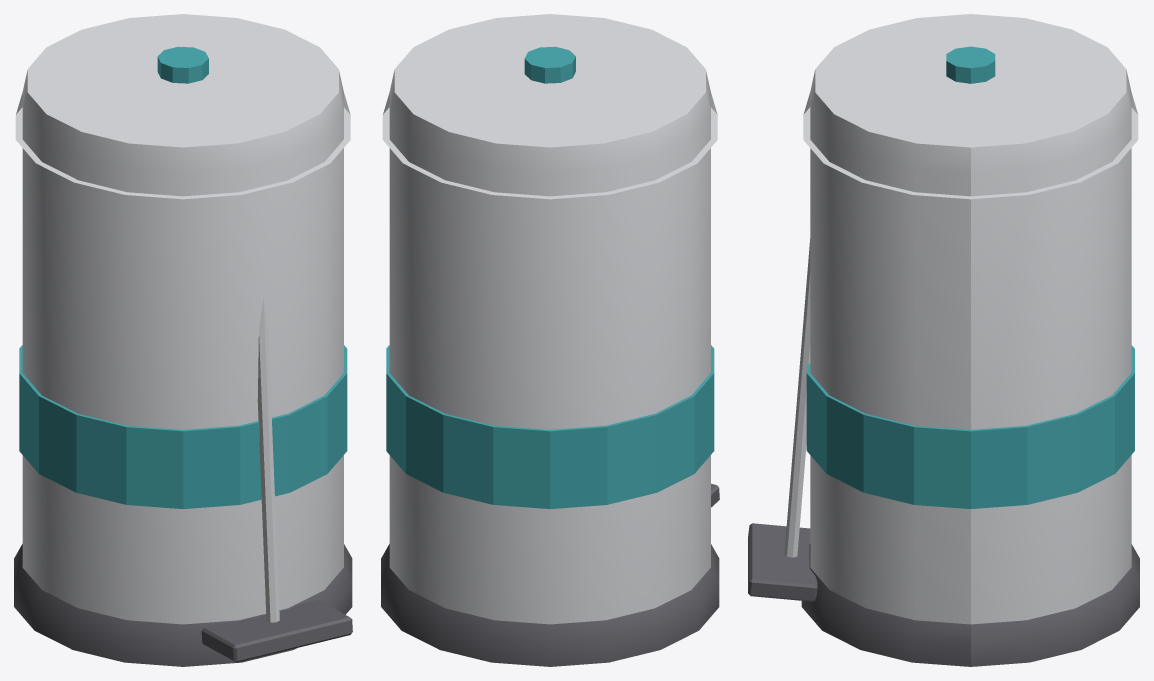
The model's file is pet-shop-and-grooming-salon-pedal-waste-bin-4ec1847f__34600.glb.
3 renders of one model, left to right at view 1: azimuth 30°, elevation 25°; view 2: azimuth 150°, elevation 25°; view 3: azimuth 270°, elevation 25°, orthographic.
Parts seen in each view (by area): view 1: pedal-waste-bin, bin-lid/metal, bin-lid/accent; view 2: pedal-waste-bin, bin-lid/metal, bin-lid/accent; view 3: pedal-waste-bin, bin-lid/metal, bin-lid/accent.
Part boxes in pixels (bbox=[...]): pedal-waste-bin: bbox=[14, 14, 352, 666]; bin-lid/metal: bbox=[15, 92, 350, 199]; bin-lid/accent: bbox=[157, 46, 208, 83]; pedal-waste-bin: bbox=[381, 14, 719, 666]; bin-lid/metal: bbox=[382, 92, 717, 199]; bin-lid/accent: bbox=[524, 46, 575, 83]; pedal-waste-bin: bbox=[748, 14, 1139, 666]; bin-lid/metal: bbox=[803, 92, 1138, 199]; bin-lid/accent: bbox=[946, 46, 995, 83].
Size of the model in its own units: 0.4 by 0.69 by 0.4565.
